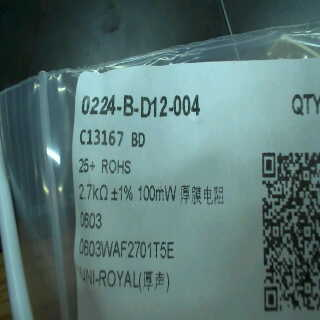2.7kR: (78, 181, 110, 202)
